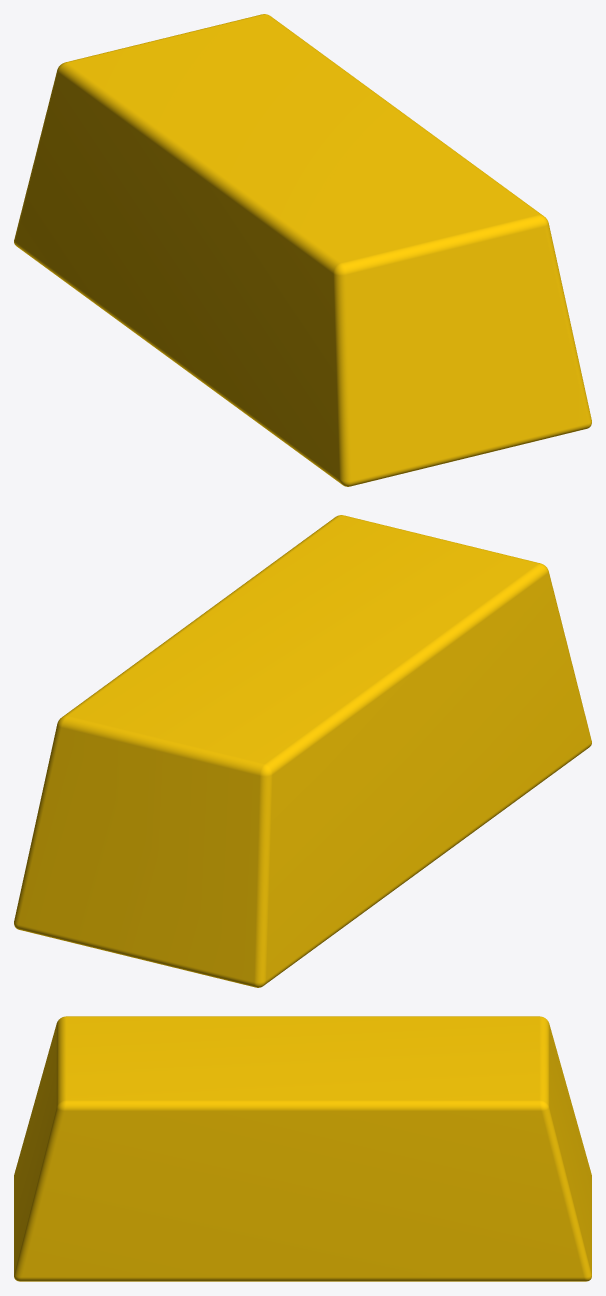
Rendered from uploads_files_4852097_Gold+Bar.fbx.
3 renders of one model, top to bottom at view 1: azimuth 30°, elevation 25°; view 2: azimuth 150°, elevation 25°; view 3: azimuth 270°, elevation 25°, orthographic. The views are drawn at different scales.
Parts seen in each view (by area): view 1: Cube; view 2: Cube; view 3: Cube.
Boxes of the visible parts, x1,y1,x2,y2 form: Cube: [14, 14, 591, 486]; Cube: [14, 515, 591, 987]; Cube: [14, 1016, 591, 1281].
Bounding box in the file's own units: 19.85 × 15 × 45.71.
